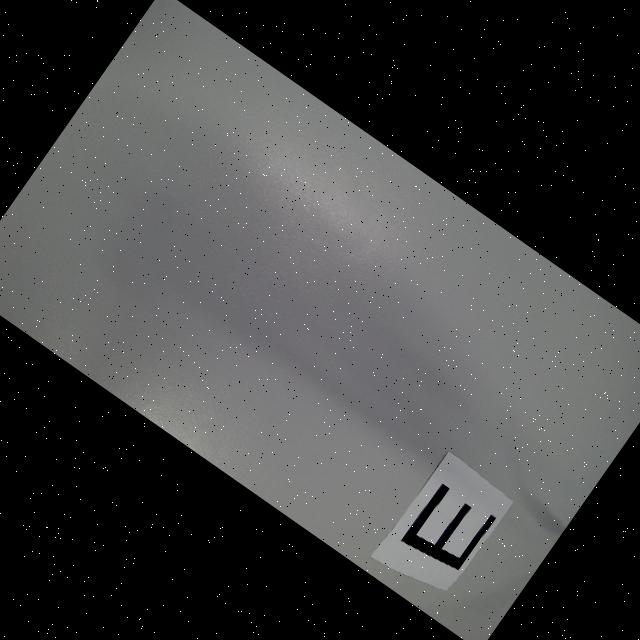FAKE: (399, 480, 497, 580)
